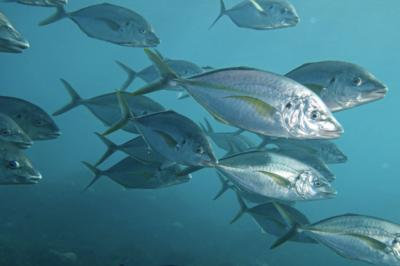Carangidae -Jacks-: (130, 46, 345, 142), (97, 90, 219, 169), (270, 203, 399, 265), (195, 147, 339, 202), (284, 51, 392, 113), (36, 1, 161, 51), (202, 0, 301, 30)
